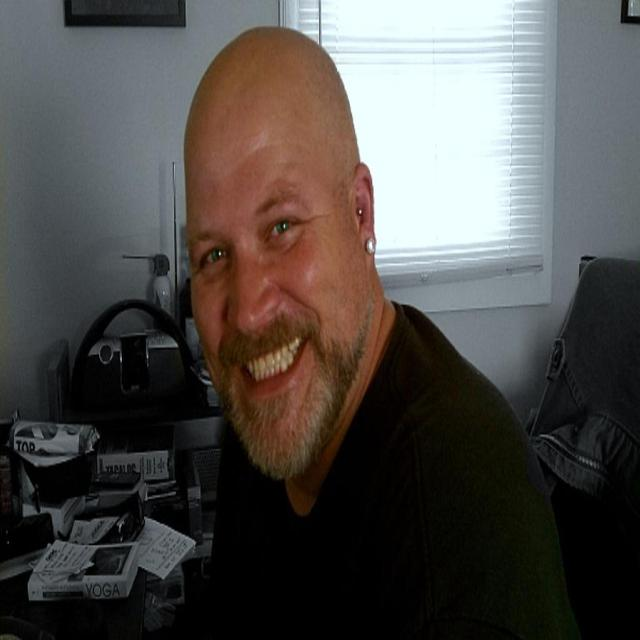Face: (185, 68, 365, 485)
